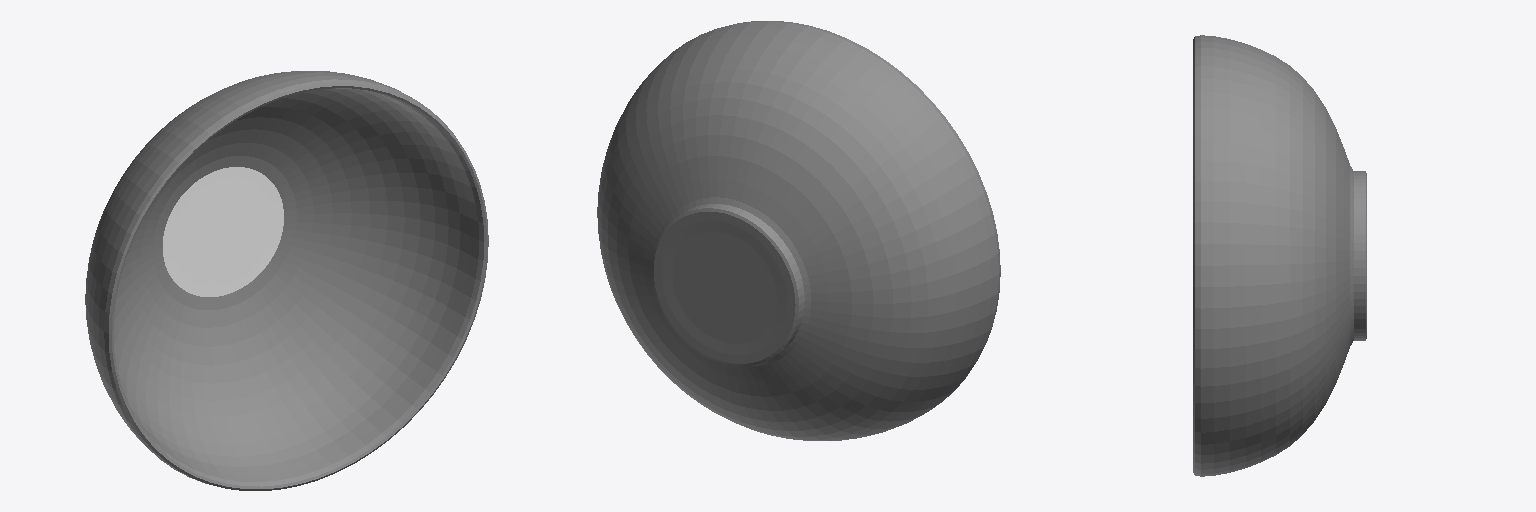
3 views of the same model, side by side, from view 1: azimuth 30°, elevation 25°; view 2: azimuth 150°, elevation 25°; view 3: azimuth 270°, elevation 25° (orthographic).
Visible parts, largest first — view 1: porcelain; view 2: porcelain; view 3: porcelain.
Part boxes in pixels (x1,y1,x2,y2): porcelain: (85,71,488,490); porcelain: (597,21,1000,440); porcelain: (1193,35,1366,476).
Bounding box in the file's own units: 4.6 × 4.6 × 1.81.
Materials: 2 (1 with a texture image).